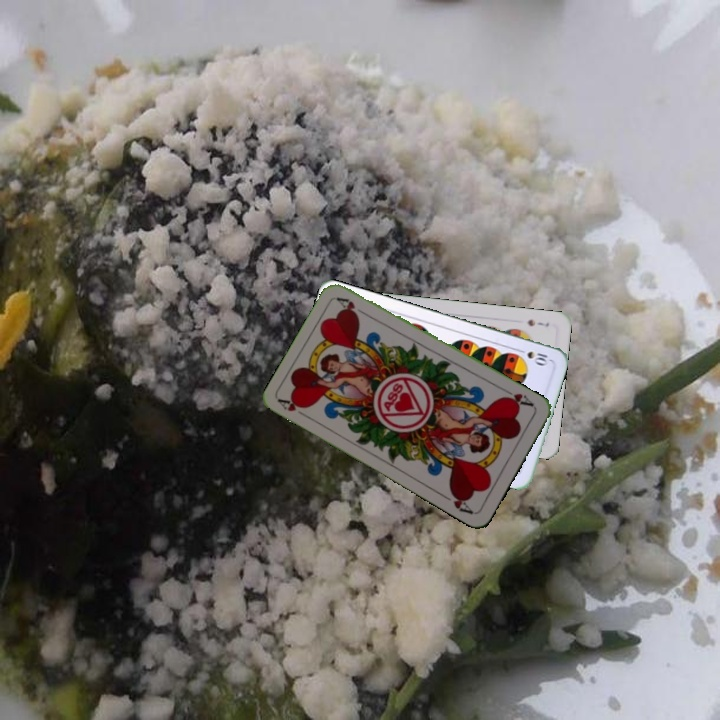HA: (275, 395, 313, 421), (498, 385, 537, 409)
S10: (513, 345, 553, 367)
S7: (523, 315, 552, 329)
